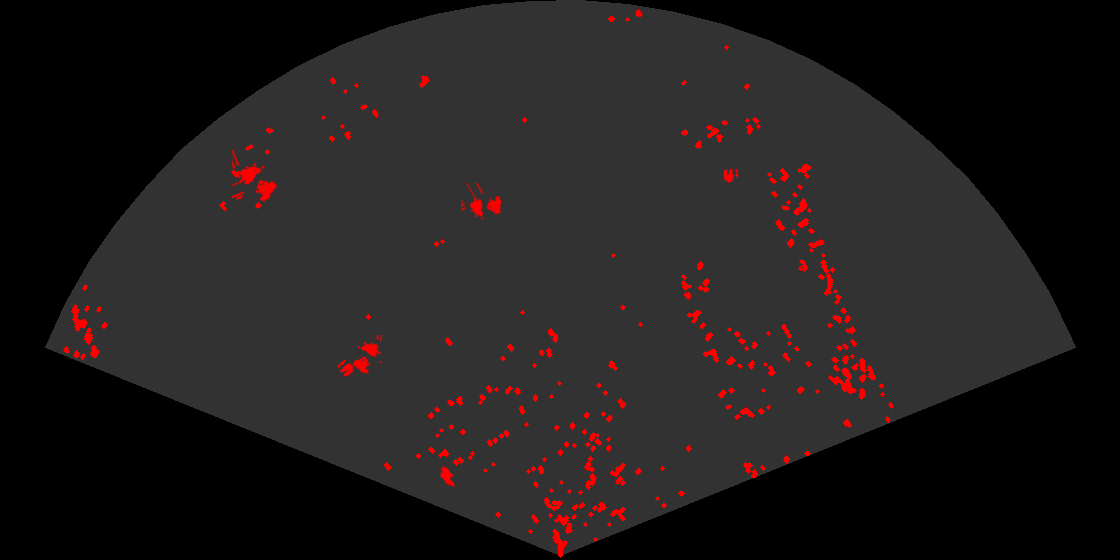AUV: (438, 464, 457, 488)
ball: (336, 358, 355, 378), (722, 167, 740, 184)
cage: (232, 150, 279, 203), (461, 183, 503, 221), (351, 335, 382, 376)
